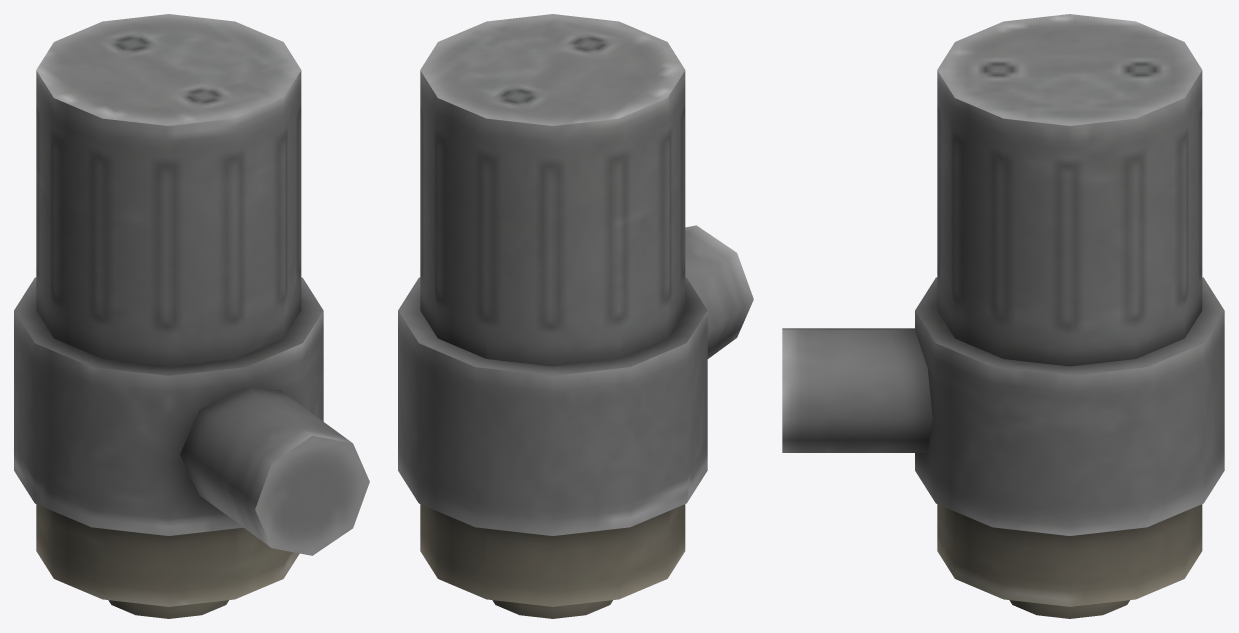
File: 1mv_sensor_accelerometer.obj
The picture shows the model from 3 angles, left to right: view 1: azimuth 30°, elevation 25°; view 2: azimuth 150°, elevation 25°; view 3: azimuth 270°, elevation 25°; orthographic projection.
Parts seen in each view (by area): view 1: mesh1; view 2: mesh1; view 3: mesh1.
Part boxes in pixels (x1=…): mesh1: x1=14, y1=14, x2=369, y2=618; mesh1: x1=398, y1=14, x2=753, y2=618; mesh1: x1=782, y1=14, x2=1224, y2=618.
Size of the model in its own units: 0.175 by 0.325 by 0.25.
1 material, 1 textured.
